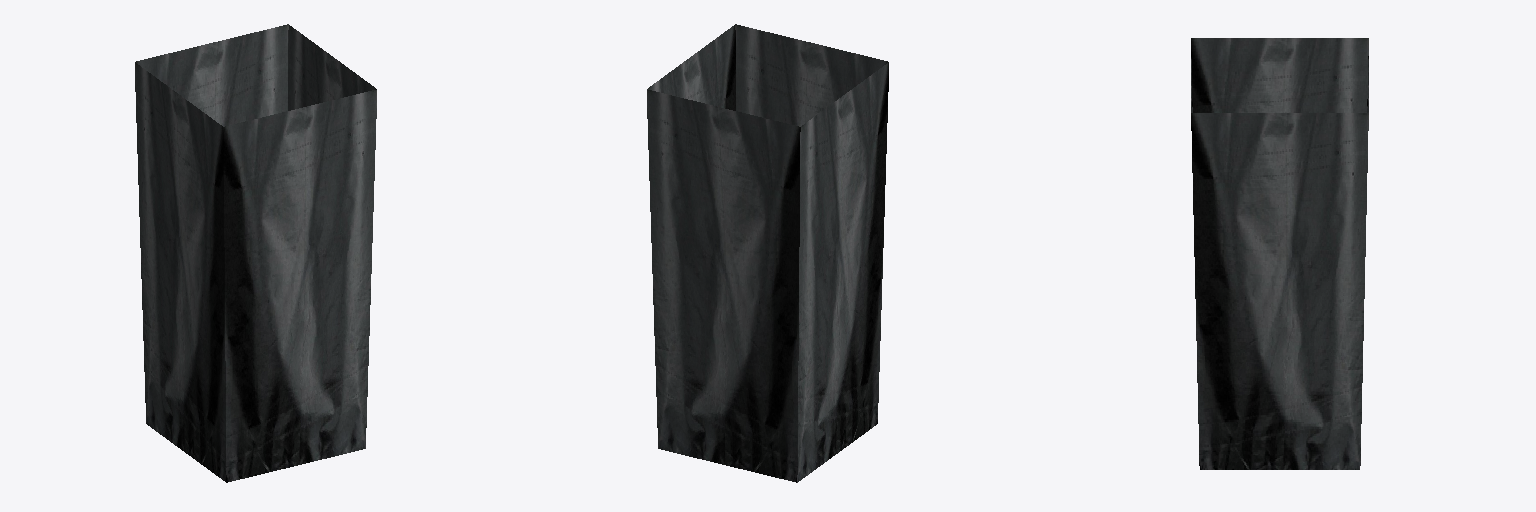
The picture shows the model from 3 angles: view 1: azimuth 30°, elevation 25°; view 2: azimuth 150°, elevation 25°; view 3: azimuth 270°, elevation 25°; orthographic projection.
Visible parts, largest first — view 1: trashCan_3_v1; view 2: trashCan_3_v1; view 3: trashCan_3_v1.
Part boxes in pixels (x1,y1,x2,y2): trashCan_3_v1: (135,24,376,482); trashCan_3_v1: (647,24,888,482); trashCan_3_v1: (1191,38,1368,469).
Bounding box in the file's own units: 0.5574 × 1.25 × 0.5574.
1 materials, 1 textured.